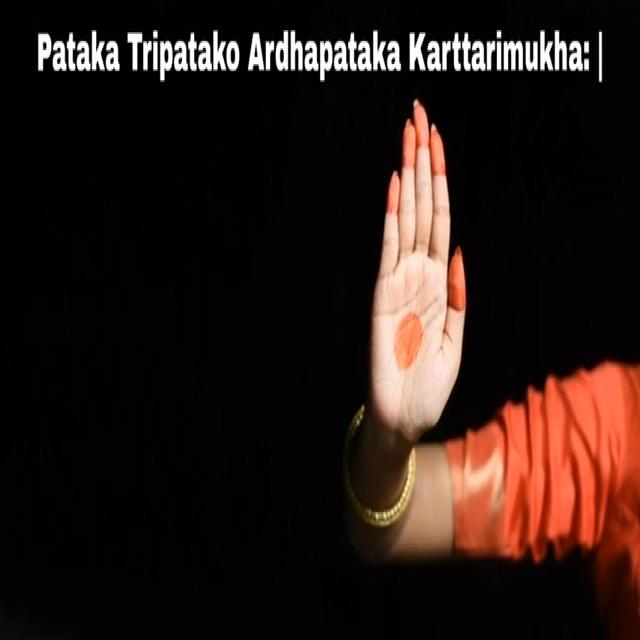Pataka: (343, 94, 498, 572)
bangle: (350, 438, 415, 538)
text: (26, 16, 612, 88)
